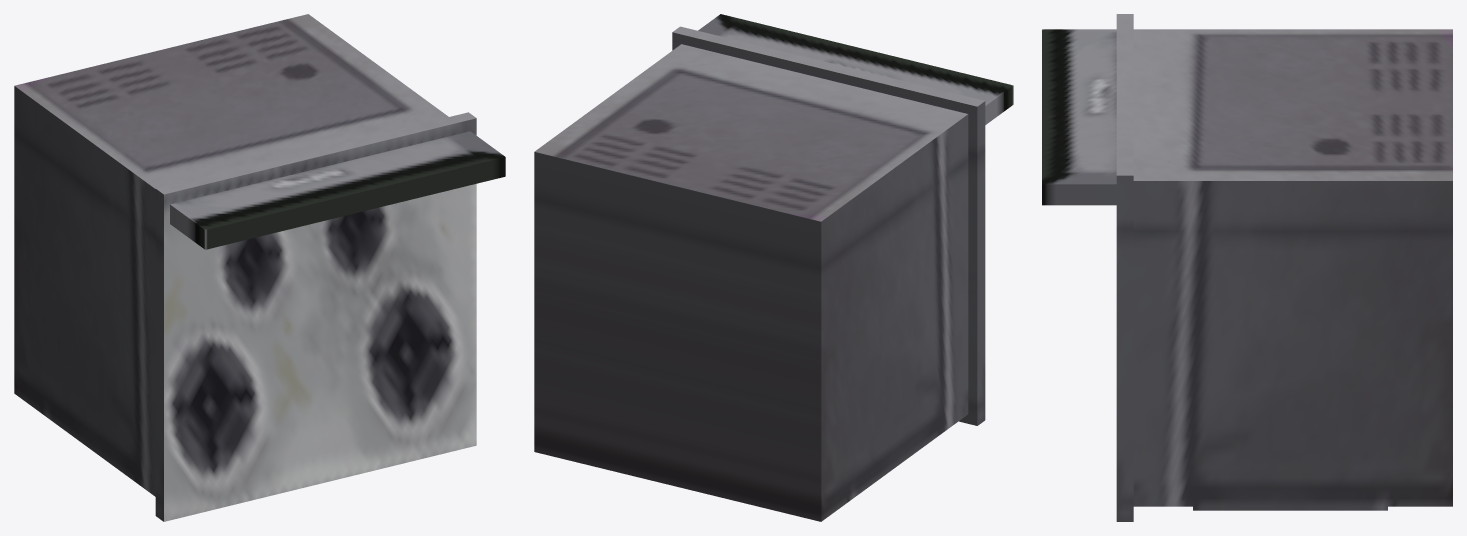
File: pz_stove_modern.obj
3 renders of one model, left to right at view 1: azimuth 30°, elevation 25°; view 2: azimuth 150°, elevation 25°; view 3: azimuth 270°, elevation 25°, orthographic. The views are drawn at different scales.
Bounding box in the file's own units: 1 × 1 × 1.08.
Materials: 1 (1 with a texture image).
